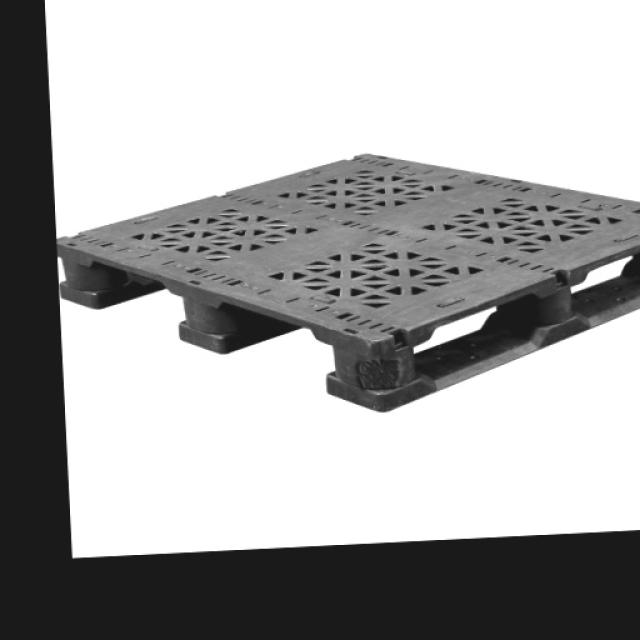non-igps: (51, 147, 640, 416)
